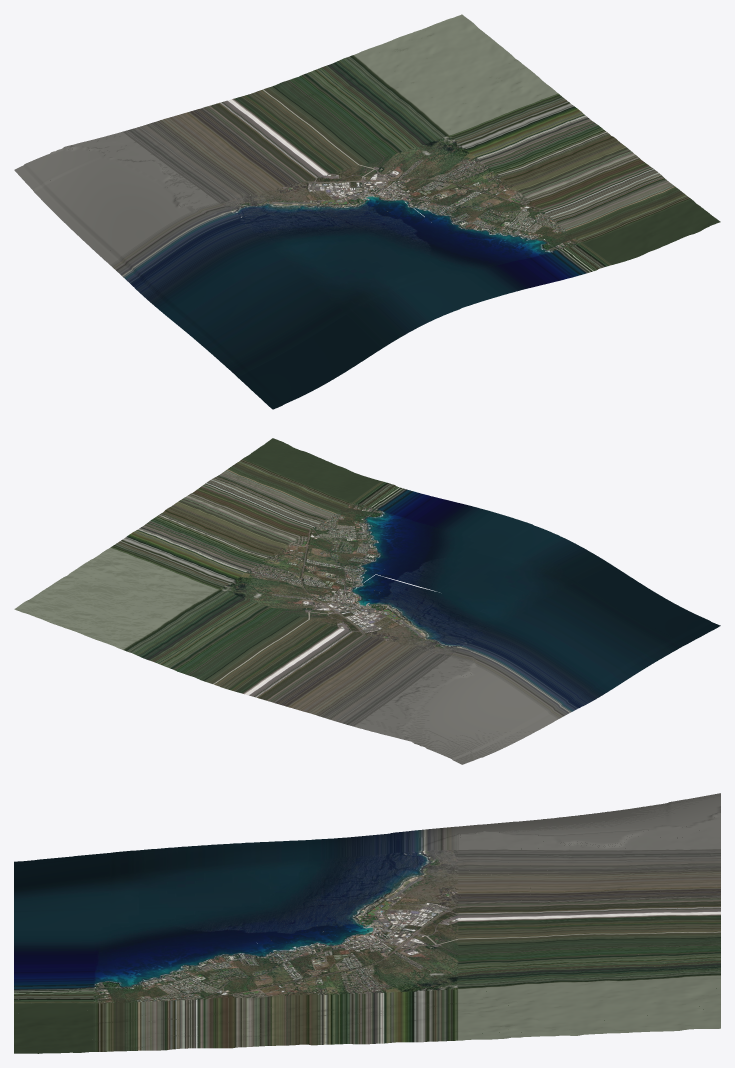
The model's file is kona_p1.glb.
3 renders of one model, top to bottom at view 1: azimuth 30°, elevation 25°; view 2: azimuth 150°, elevation 25°; view 3: azimuth 270°, elevation 25°, orthographic. The views are drawn at different scales.
Parts seen in each view (by area): view 1: KONA_far, KONA_terrain; view 2: KONA_far, KONA_terrain; view 3: KONA_far, KONA_terrain.
Part boxes in pixels (box(x1,y1,x2,y2)): KONA_far: box(14, 14, 720, 409); KONA_terrain: box(317, 187, 424, 236); KONA_far: box(14, 438, 720, 764); KONA_terrain: box(337, 575, 443, 619); KONA_far: box(14, 793, 720, 1053); KONA_terrain: box(277, 898, 385, 944).
Size of the model in its own units: 11600 by 2388 by 11600.
Materials: 30 (3 with a texture image).
